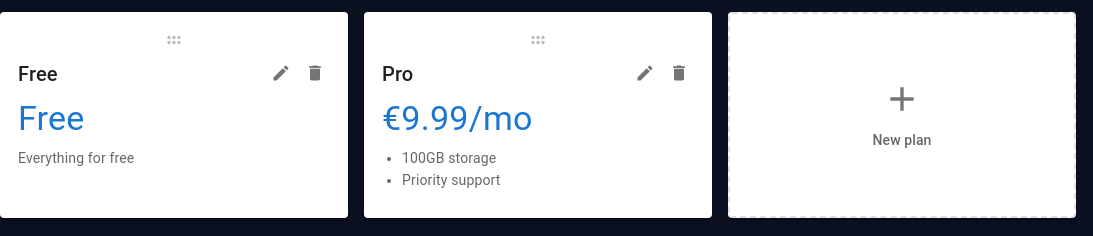
Test: PlanCards › shows create form when New plan is clicked
Click the button "New plan" at (902, 115), box [730,14,1074,216]
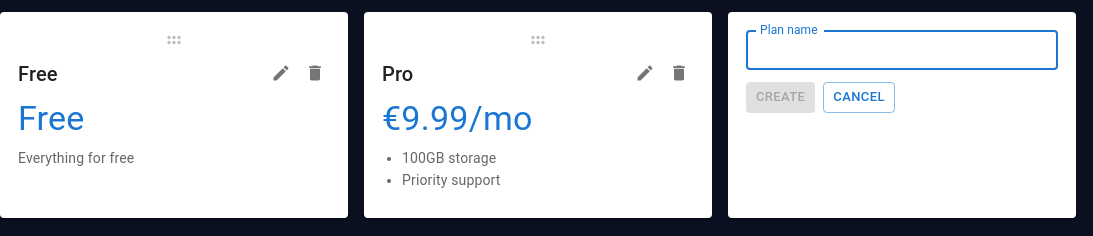
Expected: the field labelled "Plan name" is shown, [746,30,1058,70]
Expected: the button "Create" is disabled, [746,82,815,113]
